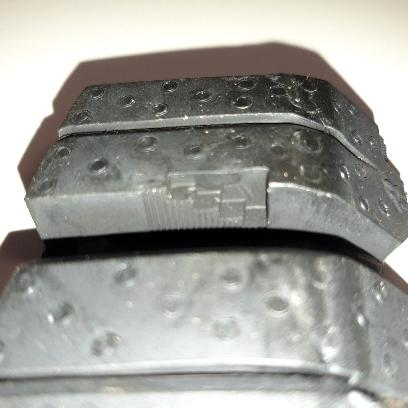temoin:100: (139, 164, 274, 239)
